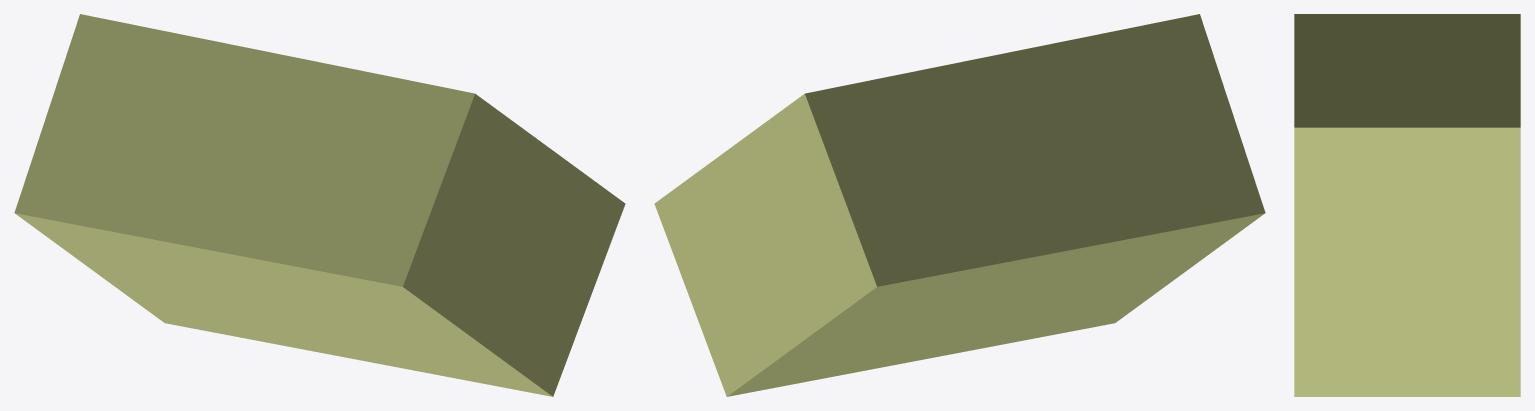
3 renders of one model, left to right at view 1: azimuth 30°, elevation 25°; view 2: azimuth 150°, elevation 25°; view 3: azimuth 270°, elevation 25°, orthographic. The views are drawn at different scales.
Visible parts, largest first — view 1: 0_1_0_0_0_1_1_2_2_2; view 2: 0_1_0_0_0_1_1_2_2_2; view 3: 0_1_0_0_0_1_1_2_2_2.
Boxes of the visible parts, x1=… form: 0_1_0_0_0_1_1_2_2_2: x1=14, y1=14, x2=625, y2=396; 0_1_0_0_0_1_1_2_2_2: x1=654, y1=14, x2=1265, y2=396; 0_1_0_0_0_1_1_2_2_2: x1=1294, y1=14, x2=1520, y2=396.
Bounding box in the file's own units: 10.61 × 7.74 × 6.
